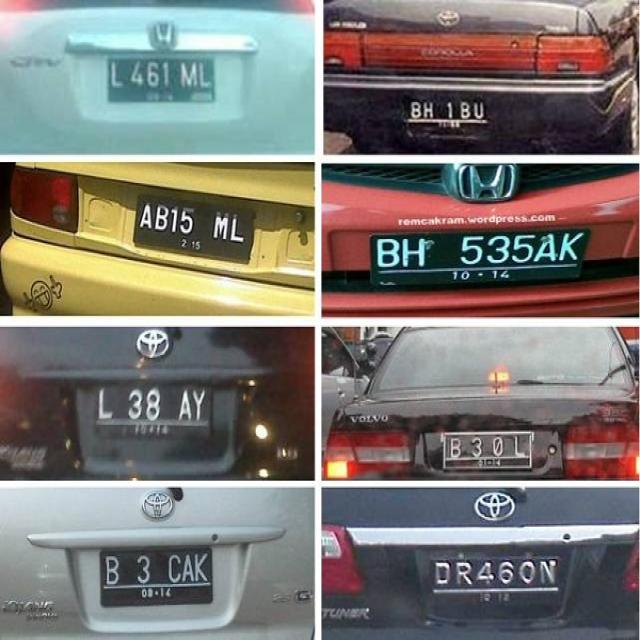plate: (372, 228, 587, 288), (132, 198, 254, 262), (96, 380, 211, 443), (100, 549, 212, 608), (433, 560, 561, 604), (109, 60, 212, 105), (443, 435, 532, 471), (407, 98, 488, 131)
